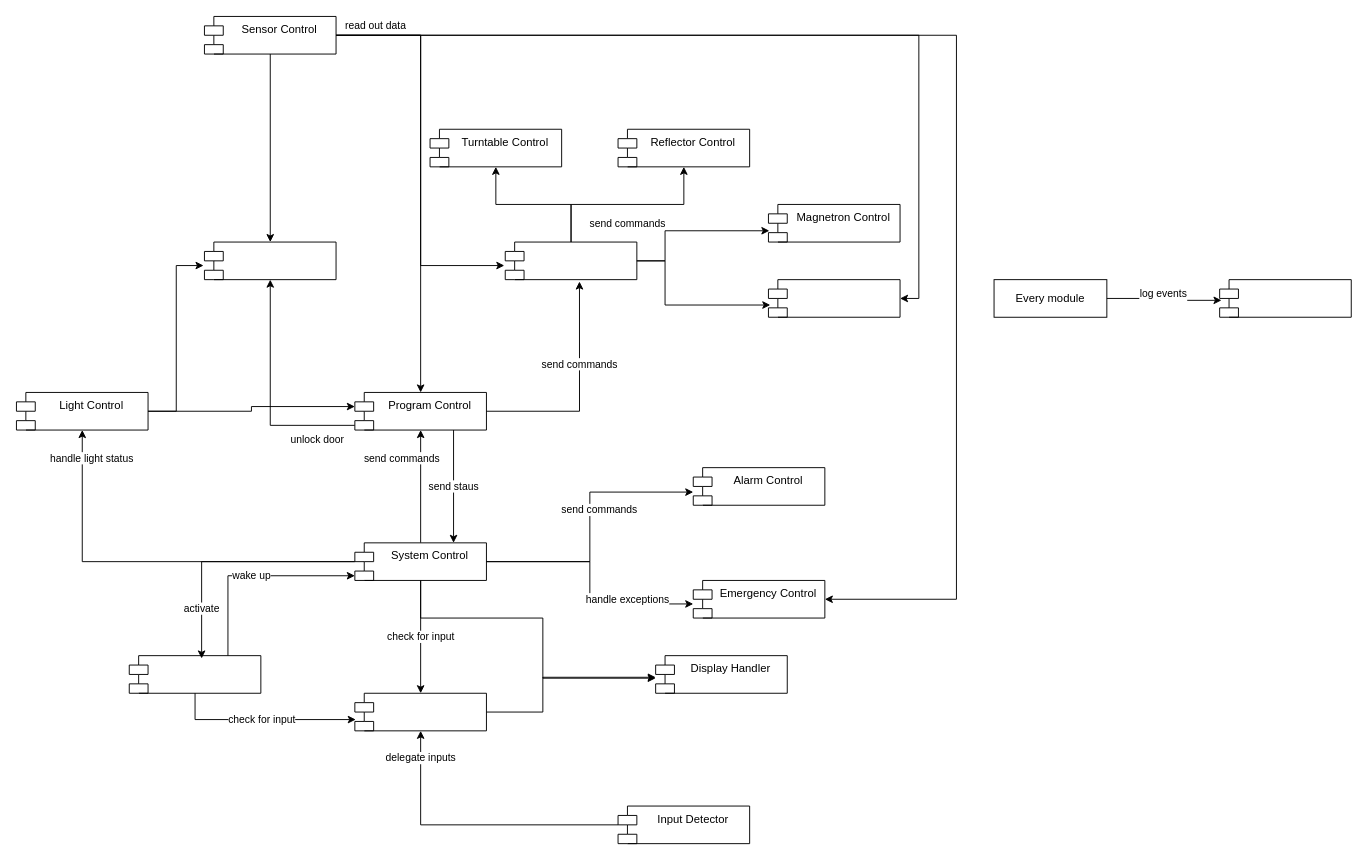
Some shapes in this 1368 by 860 pixel diagram are drawn without their labels. The box of each missing label's shape, as (x1, y1, x2, y2) in pixels:
Cooling Fan Control: (768, 279, 900, 317)
Door Control: (204, 241, 336, 280)
Idle Watchdog: (128, 655, 261, 693)
Logging Handler: (1219, 279, 1351, 317)
Power Handler: (504, 241, 637, 280)
User Interaction Control: (354, 692, 486, 731)
